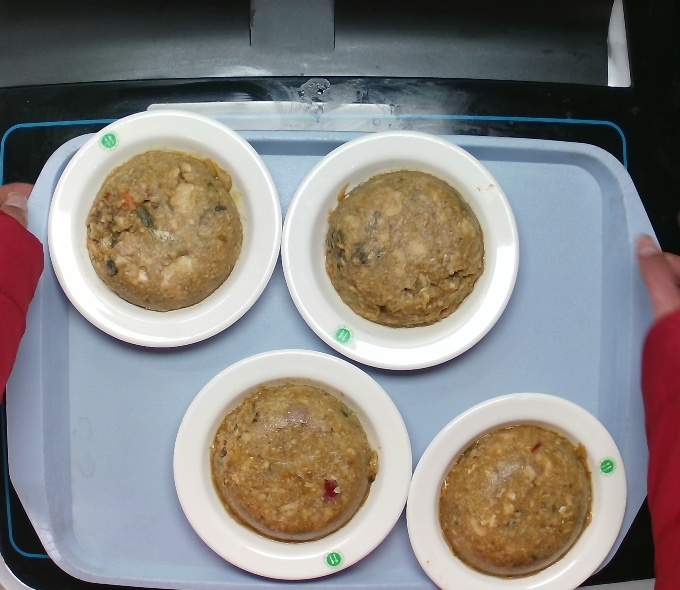wcq-YuDong: (312, 155, 496, 335), (80, 142, 246, 314), (211, 371, 369, 548), (430, 418, 606, 576)
